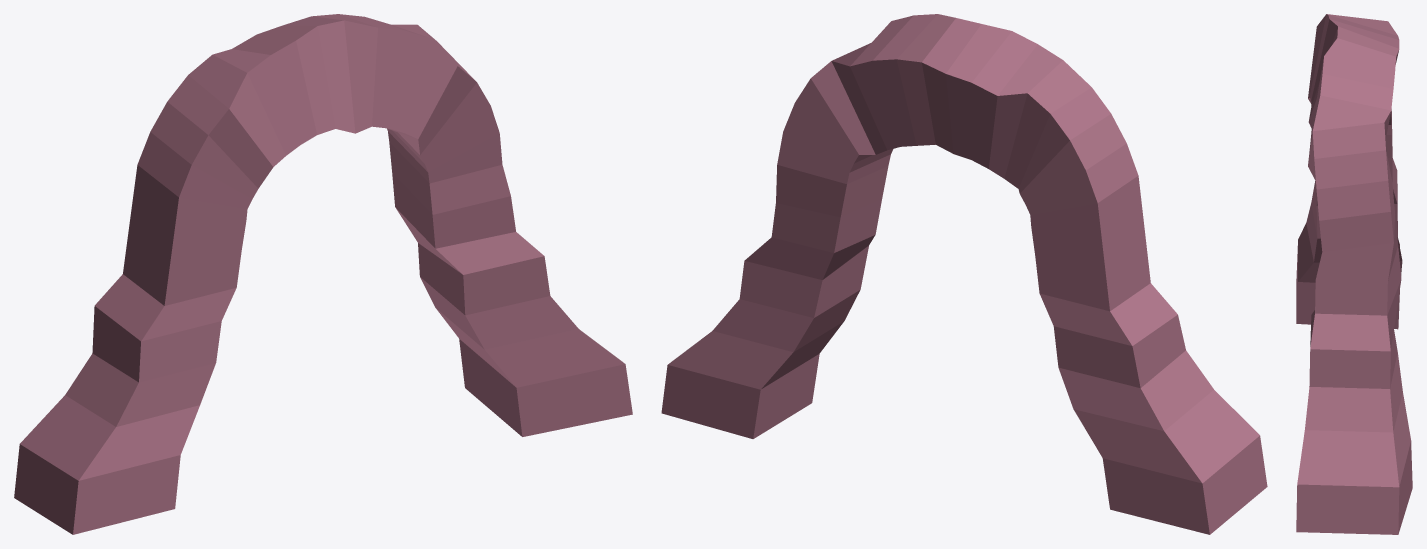
File: Arch_00.fbx
3 views of the same model, side by side, from view 1: azimuth 30°, elevation 25°; view 2: azimuth 150°, elevation 25°; view 3: azimuth 270°, elevation 25° (orthographic). The views are drawn at different scales.
Parts seen in each view (by area): view 1: Arch_00; view 2: Arch_00; view 3: Arch_00.
Part boxes in pixels (x1,y1,x2,y2): Arch_00: (14, 14, 632, 534); Arch_00: (661, 14, 1267, 534); Arch_00: (1296, 14, 1412, 534).
Size of the model in its own units: 2086 by 1583 by 433.
